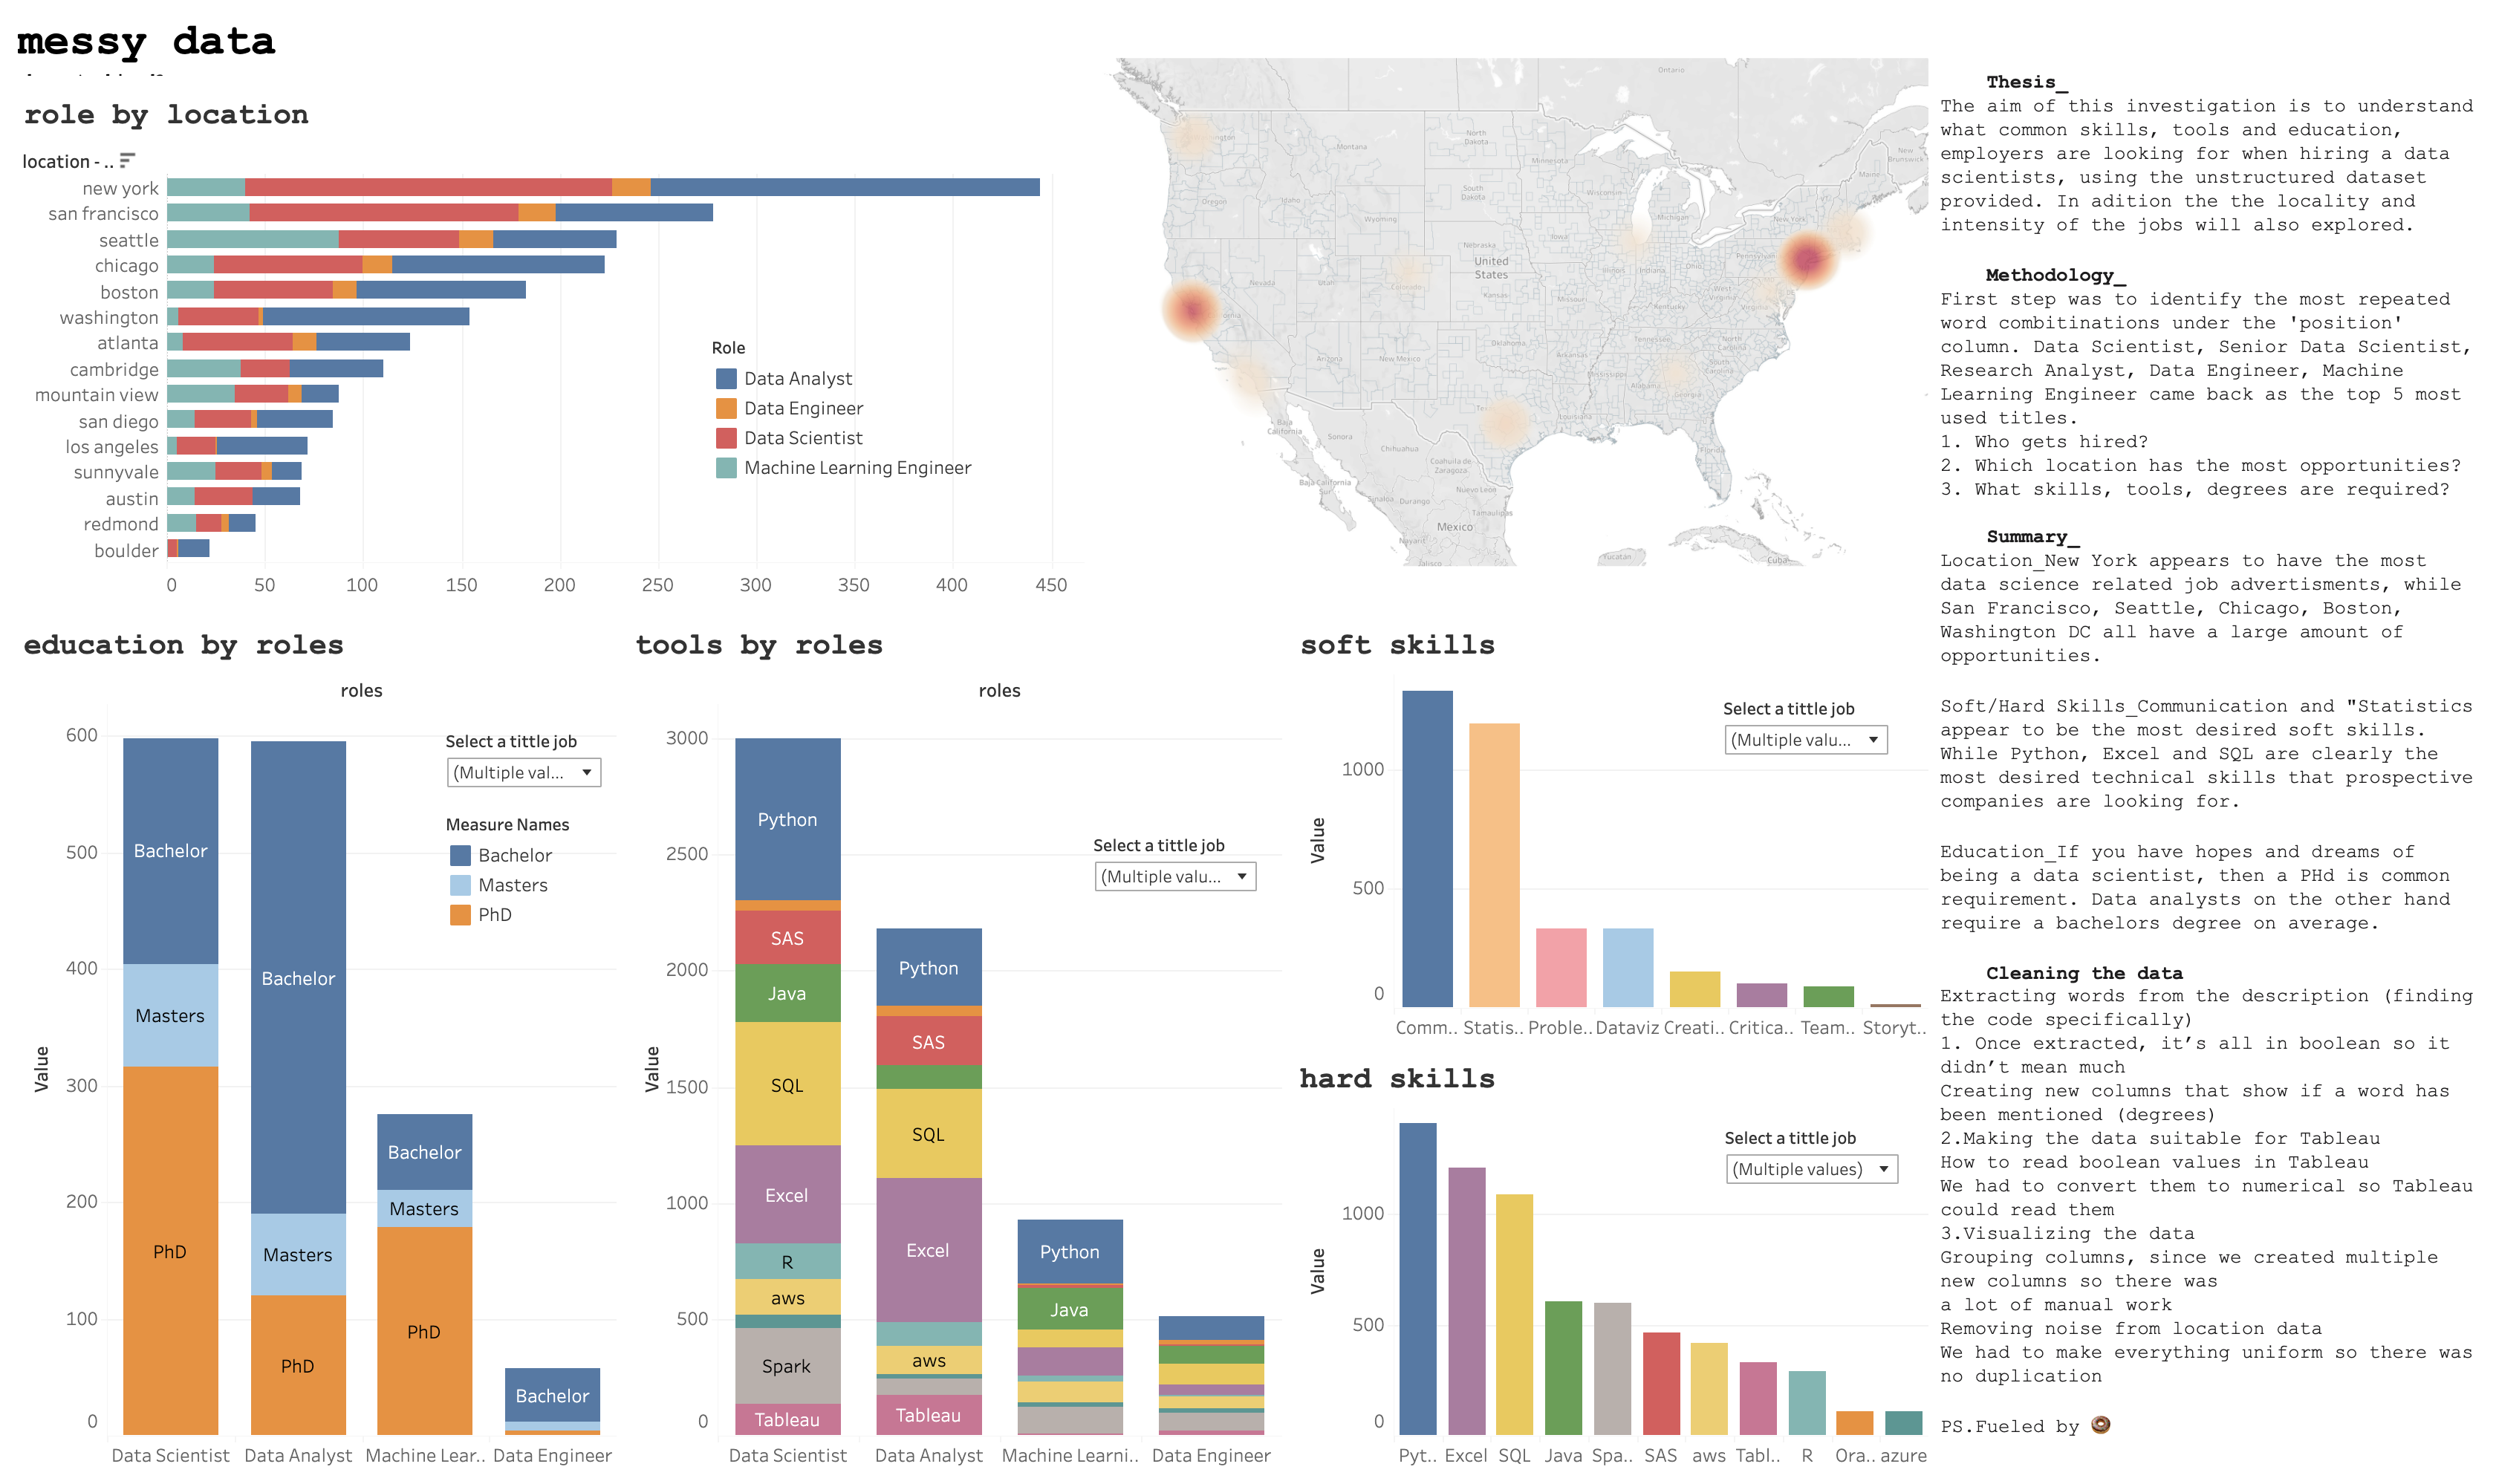

Layout of this report page (visuals, bound fields, positions):
{"tool":"tableau","page":{"name":"Dashboard 1","canvas":[1000,1000],"units":"permille","ordinal":0},"visuals":[{"type":"text","box":[4.8,9.3,432.4,47.4]},{"type":"image","param":"Image/Screenshot 2021-10-28 at 20.26.10.png","box":[437.3,9.3,337.9,402.8]},{"type":"text","box":[775.2,9.3,220,981.4]},{"type":"worksheet","title":"role by location","mark":"Automatic","rows":["location - Split 1"],"cols":["df_export.csv_D9217EACC69C41C196130AE5602F8098"],"box":[4.8,56.7,432.4,355.5]},{"type":"legend","title":"role by location","param":"[federated.0gqcaz608cnba61f4d8wg06zktff].[none:roles:nk]","box":[284.9,226.5,131.6,123.1]},{"type":"worksheet","title":"education by roles","mark":"Bar","cols":["roles"],"box":[4.8,412.1,245,578.6]},{"type":"worksheet","title":"tools by roles","mark":"Bar","cols":["roles"],"box":[249.9,412.1,266.3,578.6]},{"type":"worksheet","title":"soft skills","mark":"Bar","box":[516.2,412.1,259,307.8]},{"type":"filter","title":"soft skills","param":"[federated.0gqcaz608cnba61f4d8wg06zktff].[none:roles:nk]","box":[690.4,469.2,67,70.9]},{"type":"filter","title":"education by roles","param":"[federated.0gqcaz608cnba61f4d8wg06zktff].[none:roles:nk]","box":[176.2,486.6,67.6,70.9]},{"type":"legend","title":"education by roles","param":"[federated.0gqcaz608cnba61f4d8wg06zktff].[:Measure Names]","box":[176.2,557.5,67.6,108]},{"type":"filter","title":"tools by roles","param":"[federated.0gqcaz608cnba61f4d8wg06zktff].[none:roles:nk]","box":[438.1,561,65.8,70.9]},{"type":"worksheet","title":"hard skills","mark":"Bar","box":[516.2,719.9,259,270.8]},{"type":"filter","title":"hard skills","param":"[federated.0gqcaz608cnba61f4d8wg06zktff].[none:roles:nk]","box":[691,758.4,70,70.9]}]}

Visuals, with their boxes on the dashboard's canvas, which has no fixed pixel size, in thousandths of its width and height (x1, y1, x2, y2). These are canvas units, not pixel positions in the 2496x1484 screenshot, which may show the page scaled, cropped or inside an application window:
text: locate(5, 9, 437, 57)
image: locate(437, 9, 775, 412)
text: locate(775, 9, 995, 991)
"role by location" worksheet: locate(5, 57, 437, 412)
"role by location" legend: locate(285, 226, 416, 350)
"education by roles" worksheet (Bar marks): locate(5, 412, 250, 991)
"tools by roles" worksheet (Bar marks): locate(250, 412, 516, 991)
"soft skills" worksheet (Bar marks): locate(516, 412, 775, 720)
"soft skills" filter: locate(690, 469, 757, 540)
"education by roles" filter: locate(176, 487, 244, 558)
"education by roles" legend: locate(176, 558, 244, 666)
"tools by roles" filter: locate(438, 561, 504, 632)
"hard skills" worksheet (Bar marks): locate(516, 720, 775, 991)
"hard skills" filter: locate(691, 758, 761, 829)
